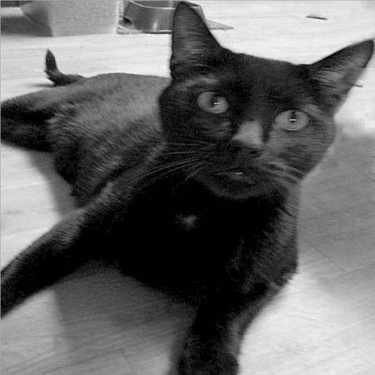cat: (1, 18, 372, 372)
